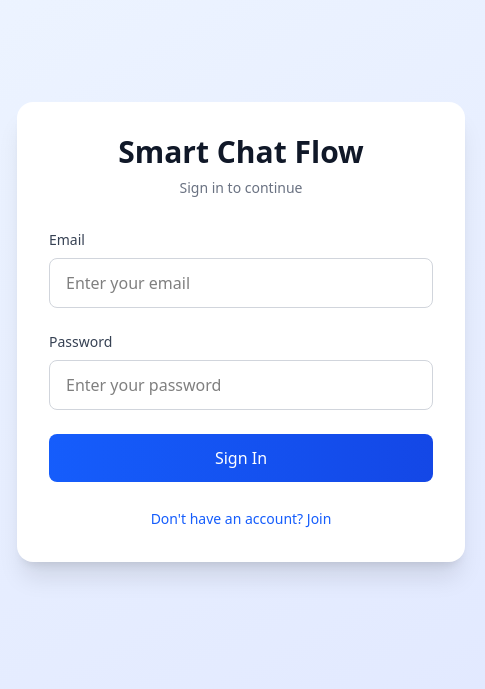
Test case: Auth Component › Join Mode › blocks join when email already exists
Click the button "Don't have an account? Join": (241,519) [151,509,331,529]
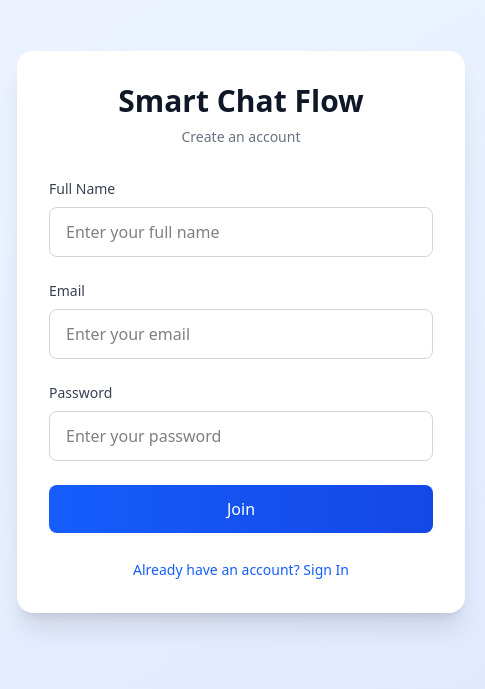
In the field labelled "Full Name": (241,232) [49,207,433,257], type "Someone Else"
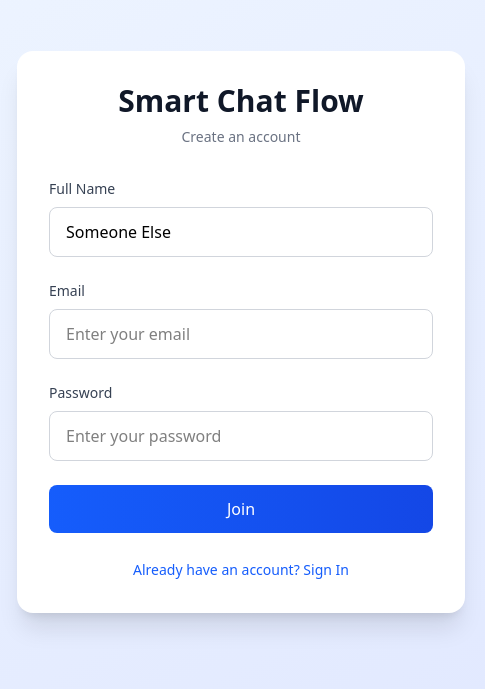
In the field labelled "Email": (241,334) [49,309,433,359], type "ada@example.com"
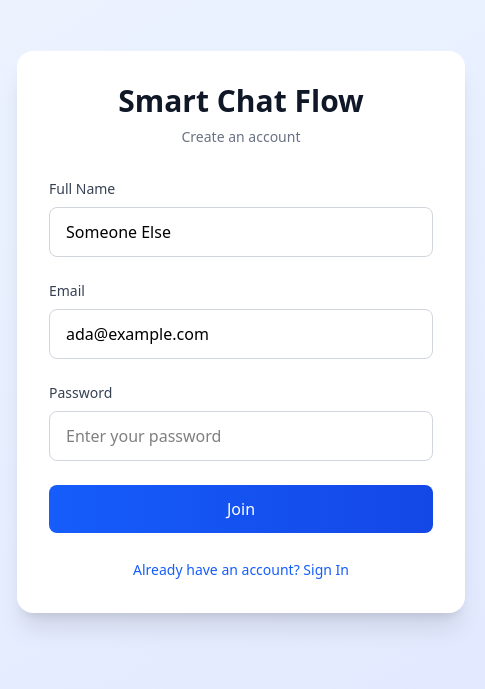
In the password field labelled "Password": (241,436) [49,411,433,461], type "password123"
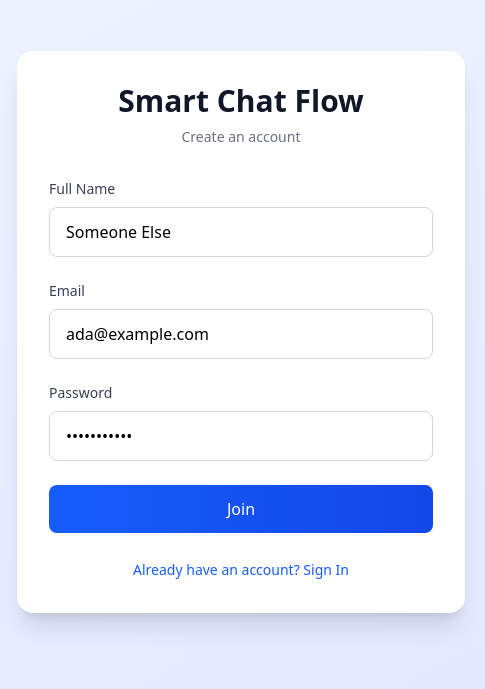
Click the button "Join": (241,509) [49,485,433,533]
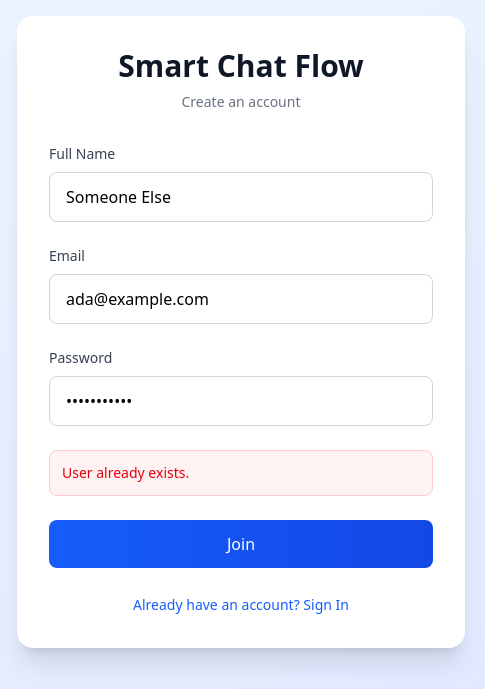
Expected: the text "User already exists." is shown, [62,463,189,482]
